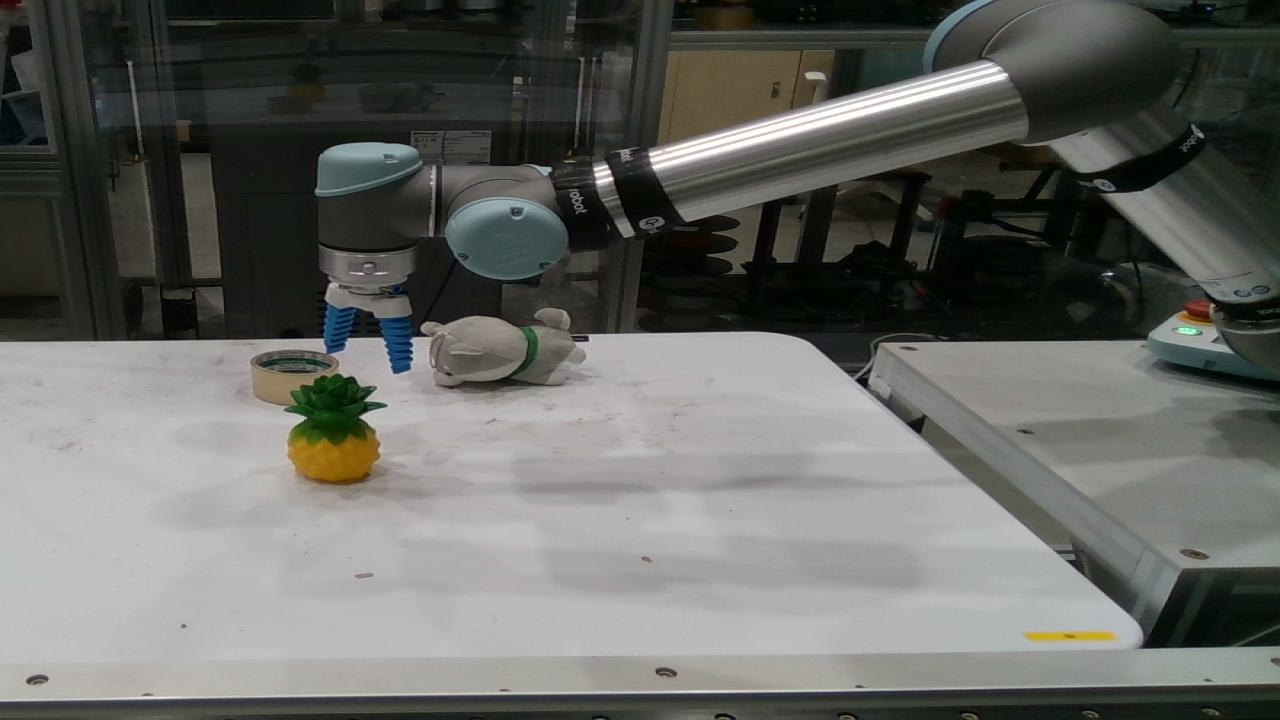UR5: (312, 0, 1266, 366)
gripper_left: (324, 304, 352, 352)
gripper_right: (382, 317, 410, 372)
target: (424, 309, 582, 386), (284, 375, 380, 480), (252, 350, 336, 404)
